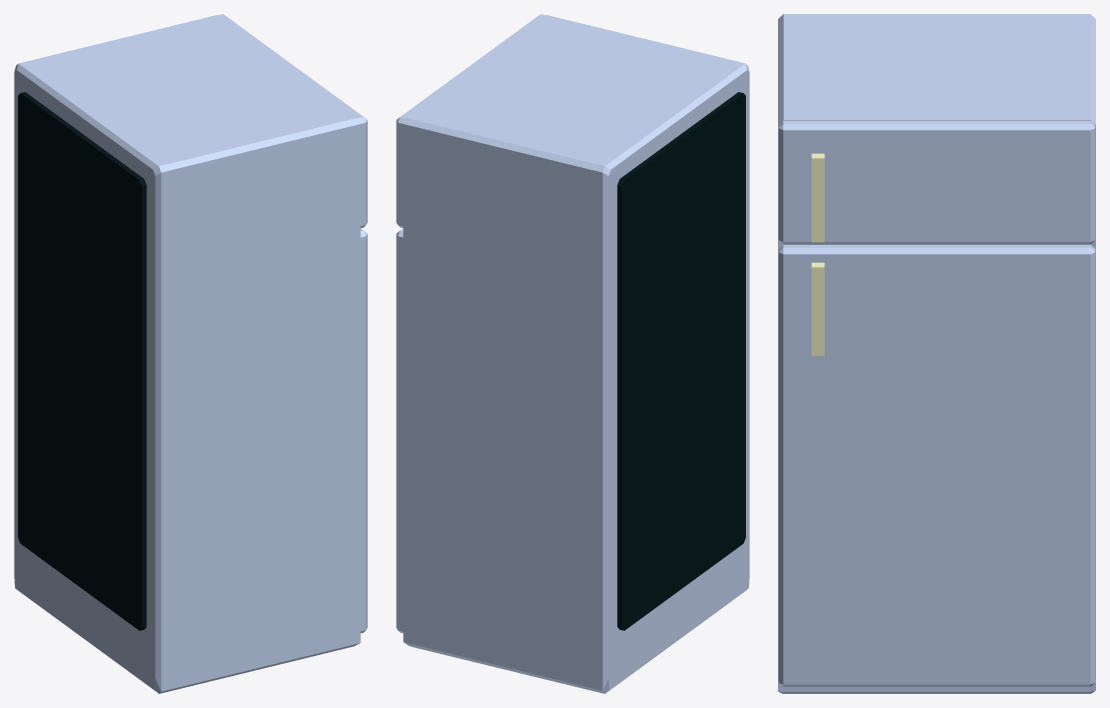
Rendered from Fridge_01.glb.
The picture shows the model from 3 angles, left to right: view 1: azimuth 30°, elevation 25°; view 2: azimuth 150°, elevation 25°; view 3: azimuth 270°, elevation 25°; orthographic projection. The views are drawn at different scales.
Visible parts, largest first — view 1: Fridge; view 2: Fridge; view 3: Fridge.
Part boxes in pixels (left/top/right/bottom): Fridge: left=14, top=14, right=367, bottom=693; Fridge: left=396, top=14, right=749, bottom=693; Fridge: left=778, top=14, right=1095, bottom=693.
Size of the model in its own units: 0.8973 by 2 by 1.
Materials: 1 (1 with a texture image).
